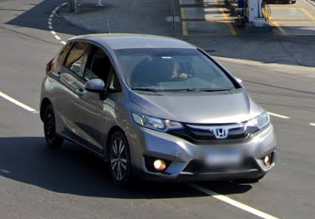car: (41, 32, 278, 187)
